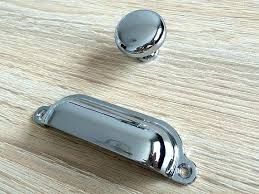cabinet door: (3, 8, 259, 193)
handle: (28, 95, 217, 181), (111, 11, 184, 81)
